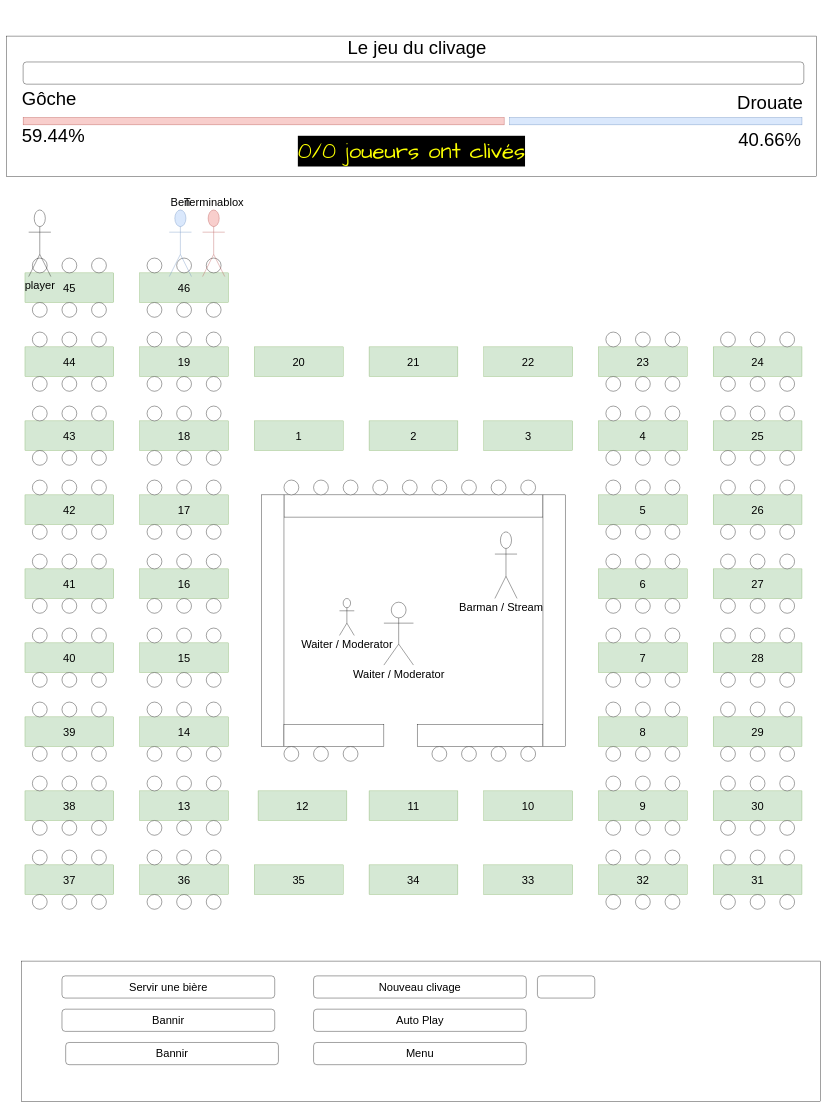
This 827x1108 diagram has some shape labels left out. The shapes that lost their labels are listed below. From the top down, each one's box as (x1, y1, x2, y2) in pixels, then its label:
(23, 62, 804, 84): Papy
(537, 976, 595, 998): Dès
